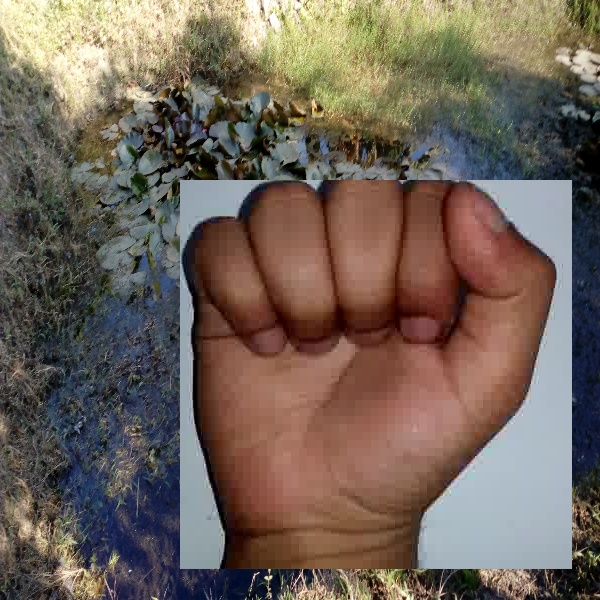A: (180, 180, 572, 569)
